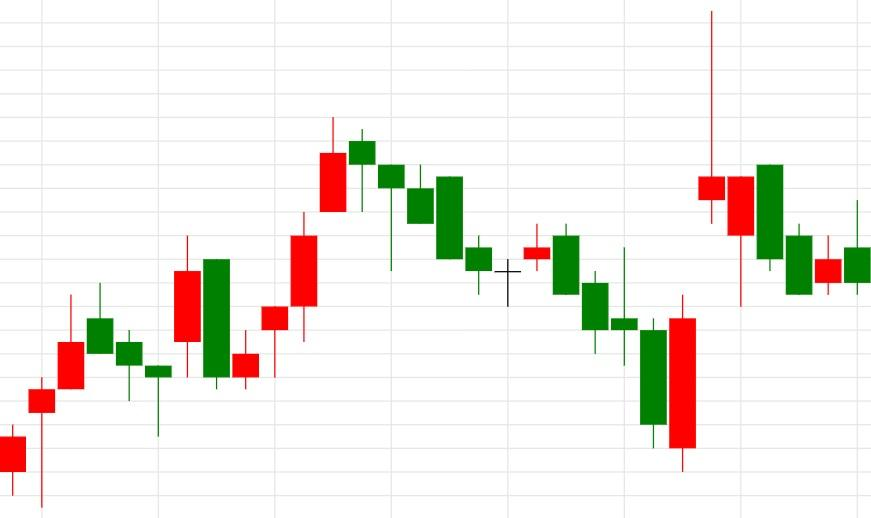bullish_engulfing_rise: (552, 224, 697, 473)
three_black_crows_fall: (231, 116, 435, 389)
